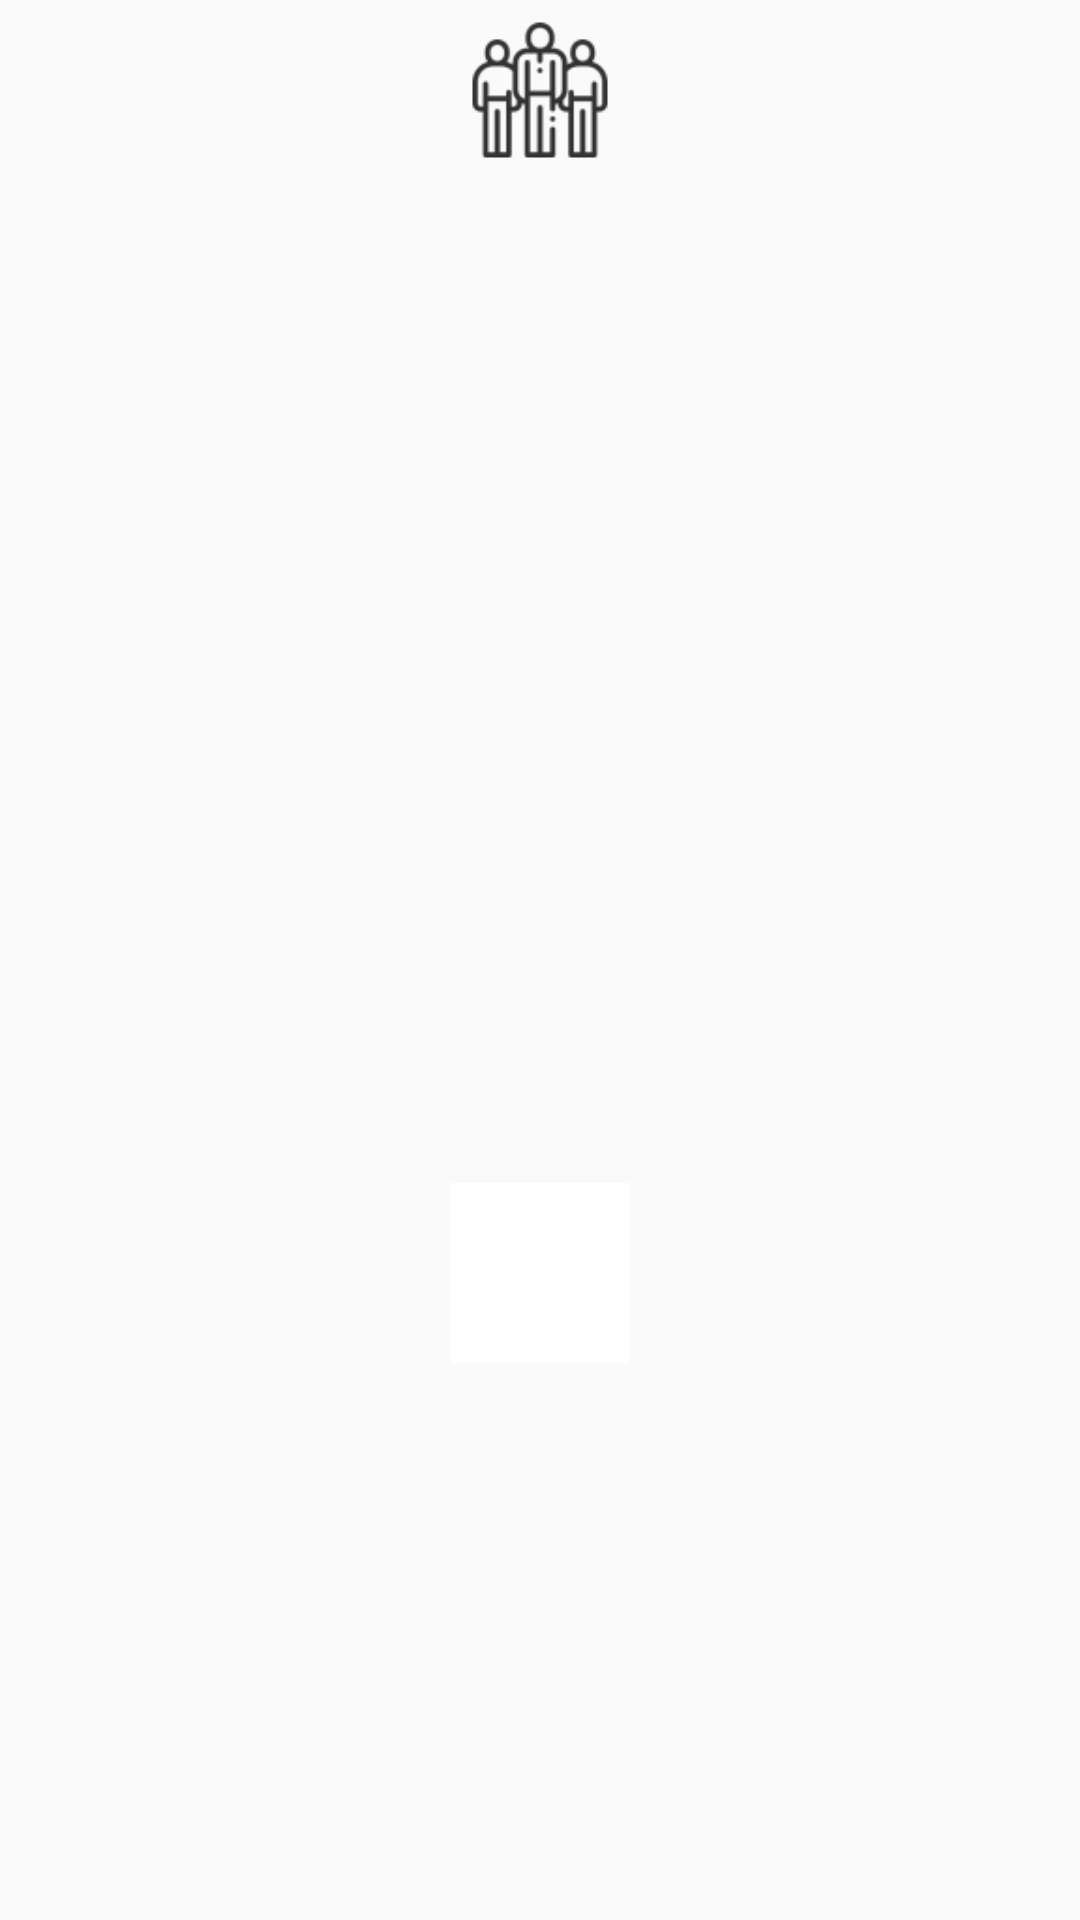

Screen size 1080 x 1920. Icon name, then its box in pixels as (x1, y1, x2, y2):
roster: (472, 22, 608, 158)
